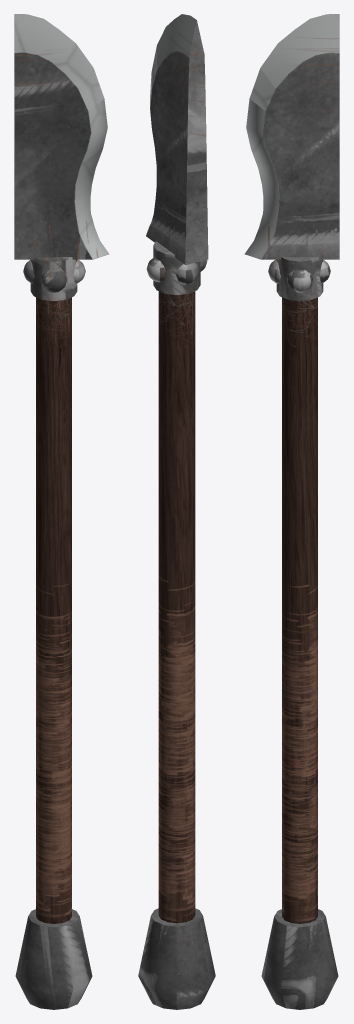
File: Lanza 1.fbx
3 views of the same model, side by side, from view 1: azimuth 90°, elevation 25°; view 2: azimuth 210°, elevation 25°; view 3: azimuth 270°, elevation 25° (orthographic).
Parts seen in each view (by area): view 1: Lanza; view 2: Lanza; view 3: Lanza.
Boxes of the visible parts, <box> form: Lanza: <box>14,14,109,1009</box>; Lanza: <box>138,14,215,1009</box>; Lanza: <box>244,14,339,1009</box>.
Bounding box in the file's own units: 13.26 × 187 × 16.38.
